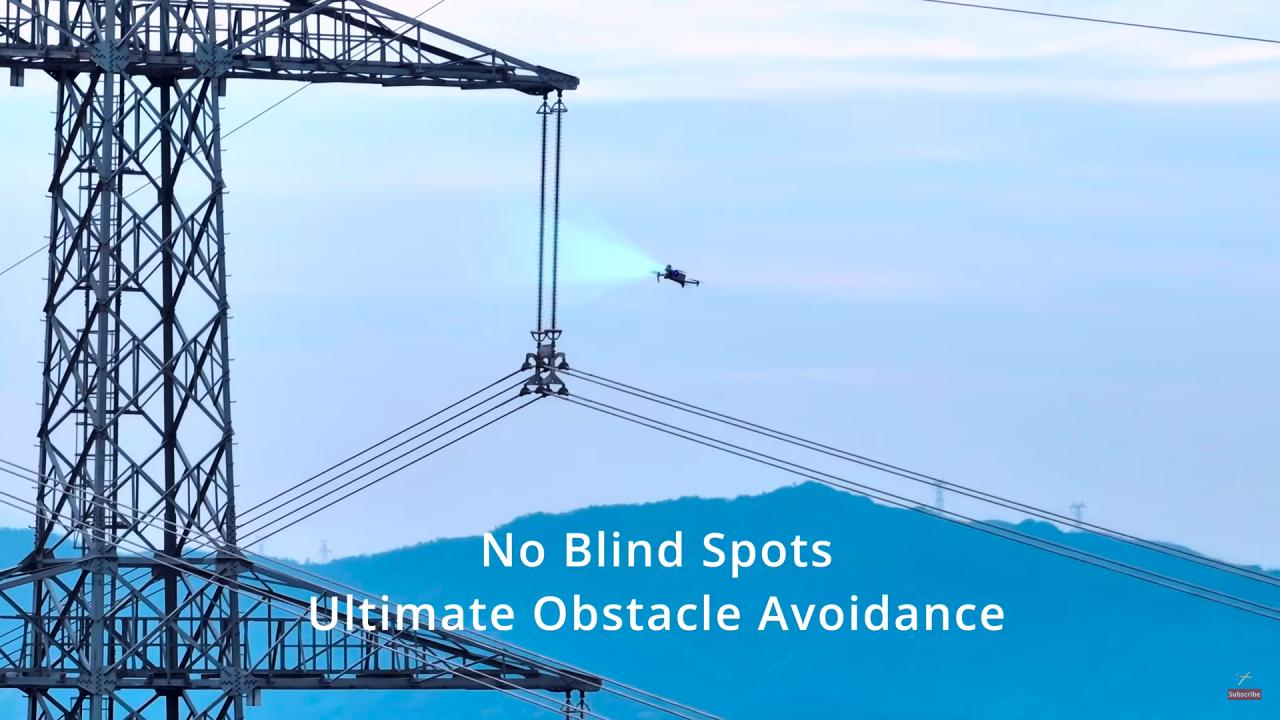Drone: (643, 256, 708, 300)
